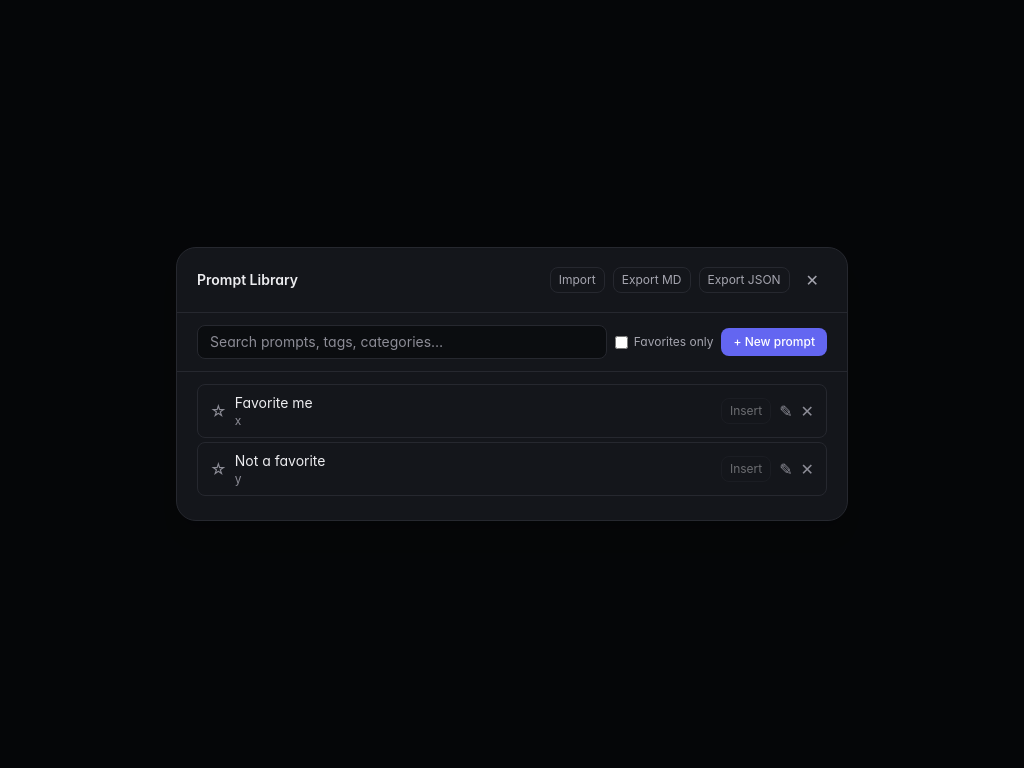
Test: PromptLibraryModal › toggles a prompt as favorite and the "Favorites only" filter respects it
Step 1. Click the button named "Favorite Favorite me" → click(218, 411), box [210,399,227,423]
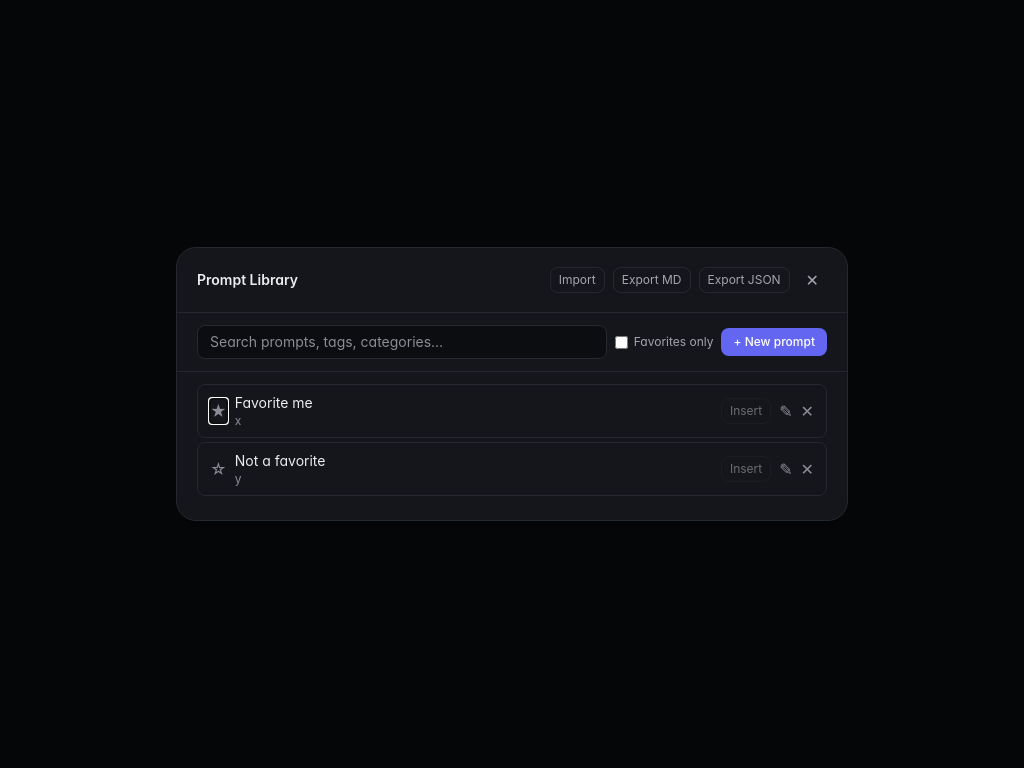
Step 2. Click the checkbox labelled "Favorites only" → click(621, 342), box [615,336,628,348]
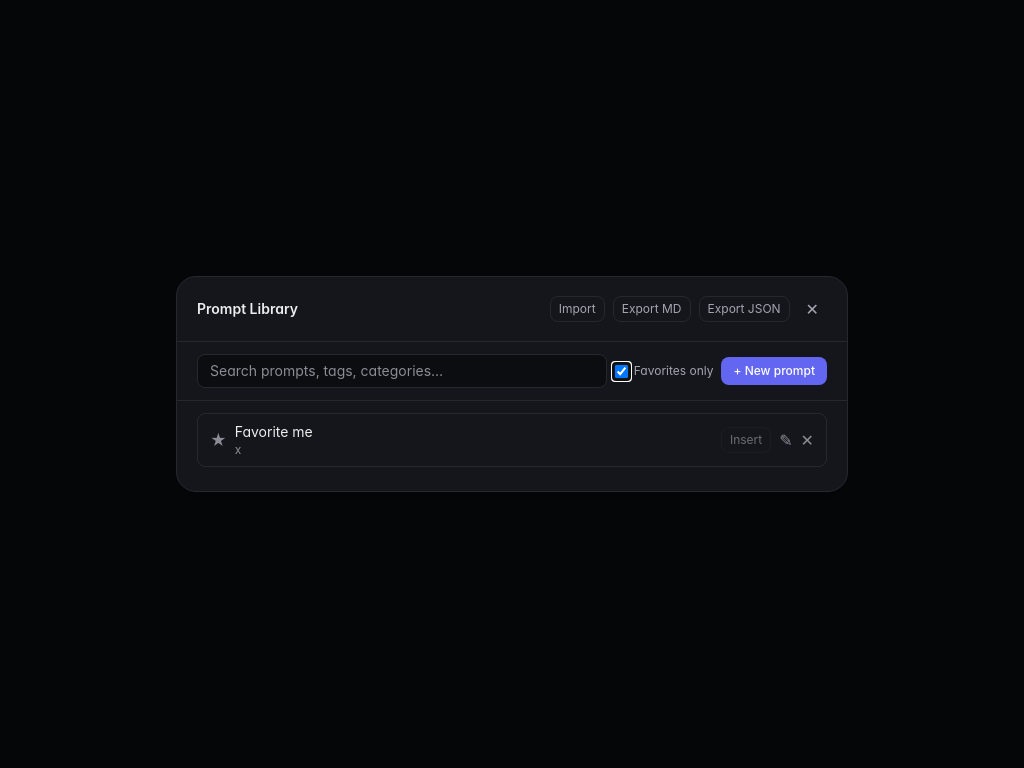
Expected: the text "Favorite me" is shown, [235,422,313,442]
Now the text "Not a favorite" is gone
